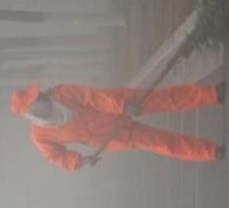person: (11, 83, 226, 174)
